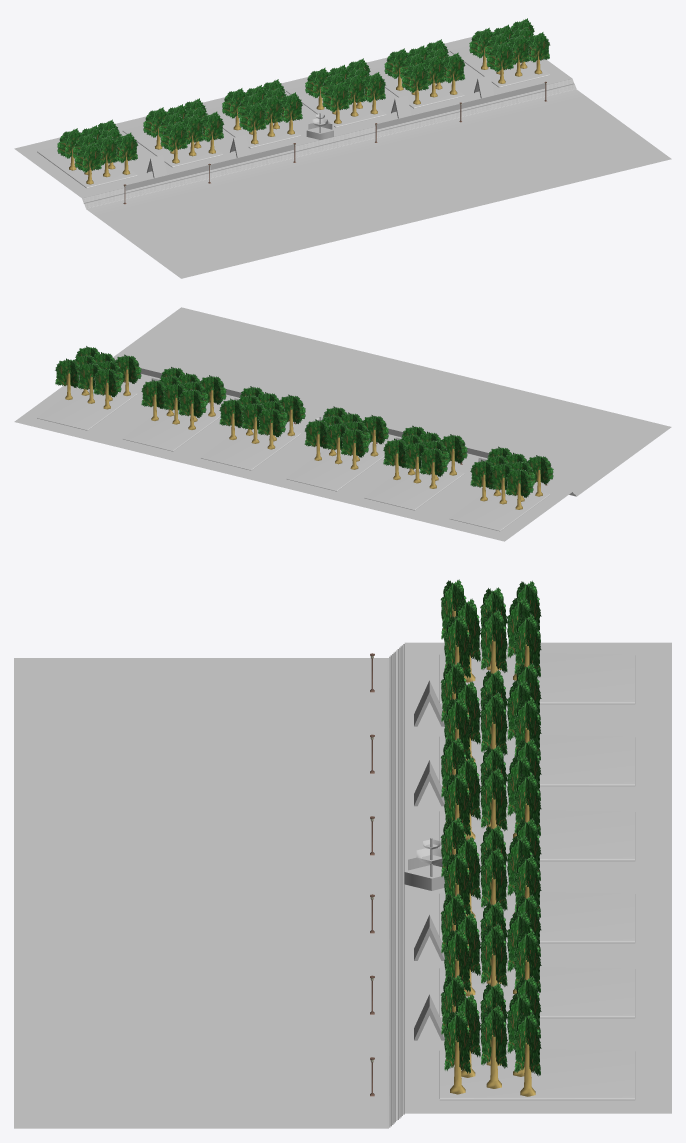
File: map1.fbx
3 renders of one model, top to bottom at view 1: azimuth 30°, elevation 25°; view 2: azimuth 150°, elevation 25°; view 3: azimuth 270°, elevation 25°, orthographic. The views are drawn at different scales.
Parts seen in each view (by area): view 1: polySurface56, polySurface61, pPlane170, pPlane169, pPlane171, pPlane172, pPlane88, pPlane72, pPlane120, pPlane152, pPlane136, pPlane104 (+1 smaller); view 2: polySurface56, pPlane131, pPlane99, pPlane83, pPlane147, pPlane163, pPlane115, pPlane149, pPlane85, pPlane101, pPlane117, pPlane133 (+9 smaller); view 3: polySurface56, polySurface61.
Boxes of the visible parts, <box> form: polySurface56: <box>14,31,671,278</box>; polySurface61: <box>306,113,333,139</box>; pPlane170: <box>125,165,209,190</box>; pPlane169: <box>210,144,293,169</box>; pPlane171: <box>376,104,459,129</box>; pPlane172: <box>461,83,544,108</box>; pPlane88: <box>239,105,266,130</box>; pPlane72: <box>322,84,349,110</box>; pPlane120: <box>160,124,187,149</box>; pPlane152: <box>74,145,101,170</box>; pPlane136: <box>486,44,513,70</box>; pPlane104: <box>401,65,428,90</box>; polySurface56: <box>14,307,671,541</box>; pPlane131: <box>419,448,447,475</box>; pPlane99: <box>340,429,368,455</box>; pPlane83: <box>257,409,285,435</box>; pPlane147: <box>93,369,121,395</box>; pPlane163: <box>505,469,533,495</box>; pPlane115: <box>178,389,206,416</box>; pPlane149: <box>55,359,80,386</box>; pPlane85: <box>219,399,244,426</box>; pPlane101: <box>304,420,328,447</box>; pPlane117: <box>141,380,166,407</box>; pPlane133: <box>383,439,407,466</box>; polySurface56: <box>14,642,671,1128</box>; polySurface61: <box>404,837,444,890</box>.
Size of the model in its own units: 396 by 37.42 by 234.
